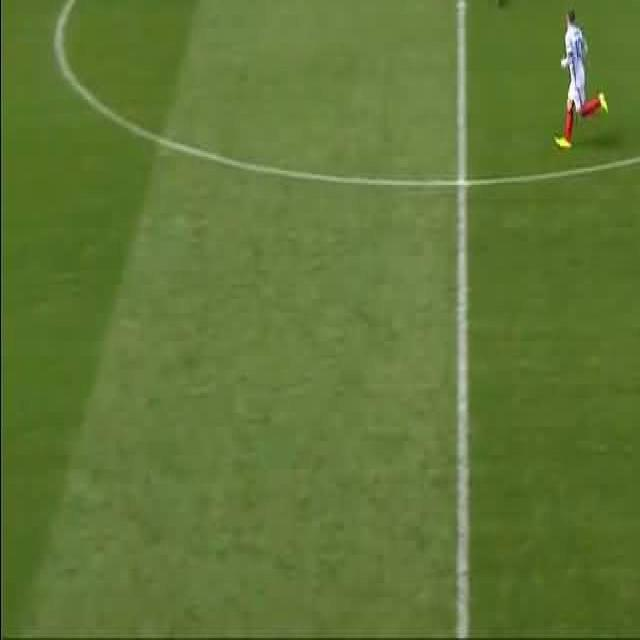player-white: (555, 12, 608, 150)
